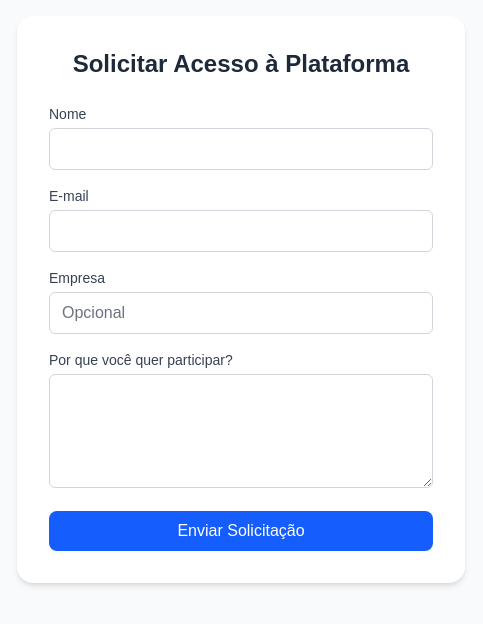
Test case: ApplyPage (Formulário de Solicitação) › deve exibir uma mensagem de erro se a API falhar
# Preenche os campos
Type "Usuário Teste" into the field labelled "Nome".
click(241, 148); type("Usuário Teste")  # box [49, 128, 433, 170]
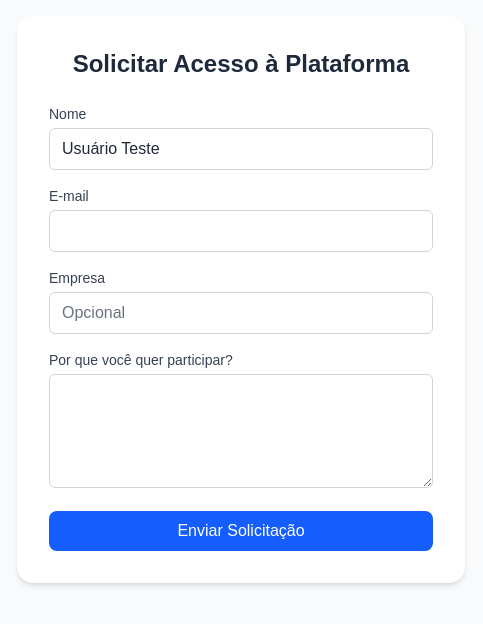
Type "existente@exemplo.com" into the field labelled "E-mail".
click(241, 230); type("existente@exemplo.com")  # box [49, 210, 433, 252]
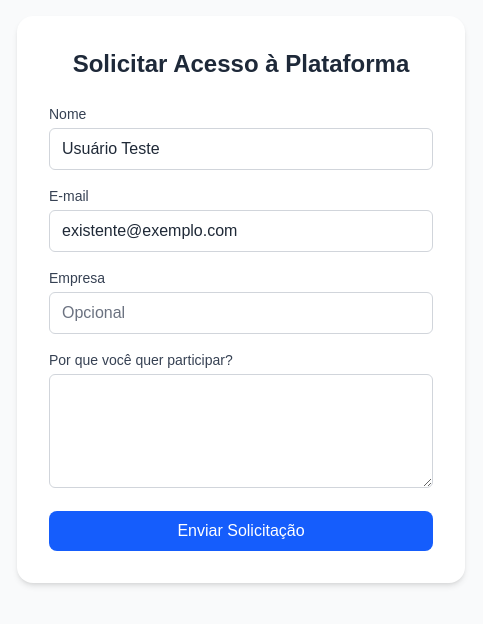
Type "Motivo" into the text box labelled "Por que você quer participar?".
click(241, 430); type("Motivo")  # box [49, 374, 433, 488]
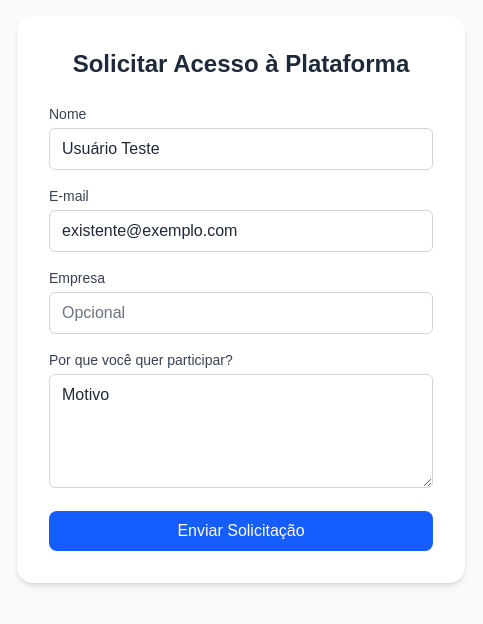
# Clica no botão de enviar
Click the button "Enviar Solicitação".
click(241, 530)  # box [49, 510, 433, 550]
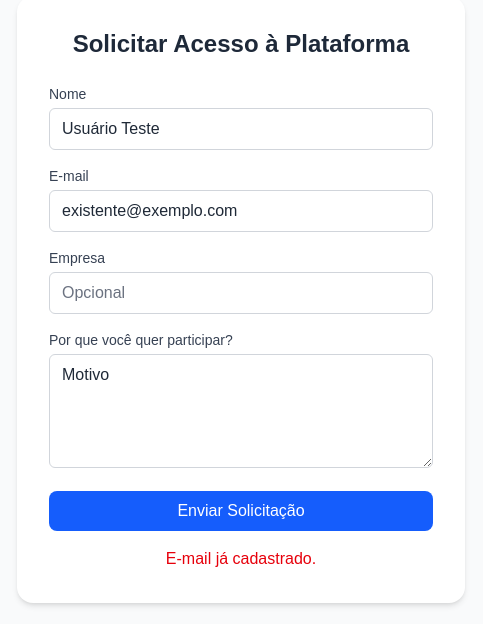
Check: the button "Enviar Solicitação" is enabled, box [49, 490, 433, 530]
Check: the text "E-mail já cadastrado." is shown, box [166, 550, 316, 566]
